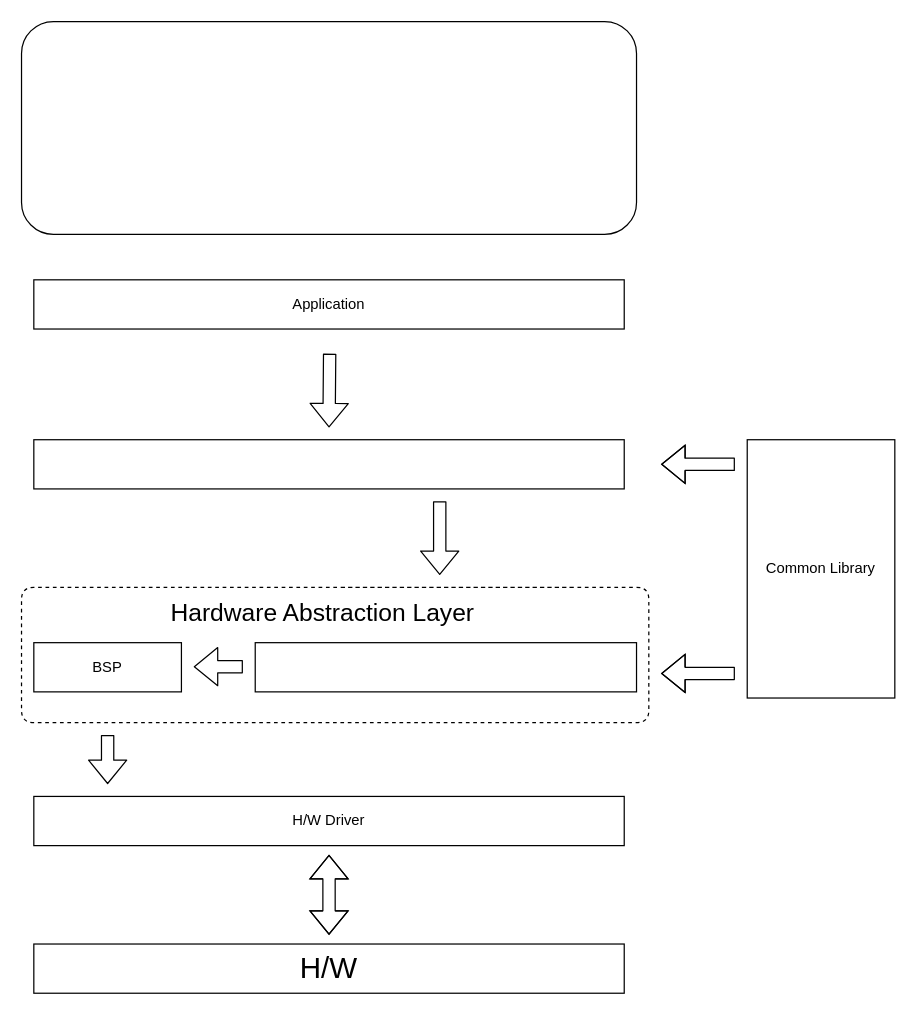
Some shapes in this 916 by 1015 pixel diagram are drawn without their labels. Here are the shapes that lost their labels. From the top down, the centre of each, then its label:
(328,127): DRONE LAYER
(328,463): Drone Library
(445,666): Standard Device Driver
